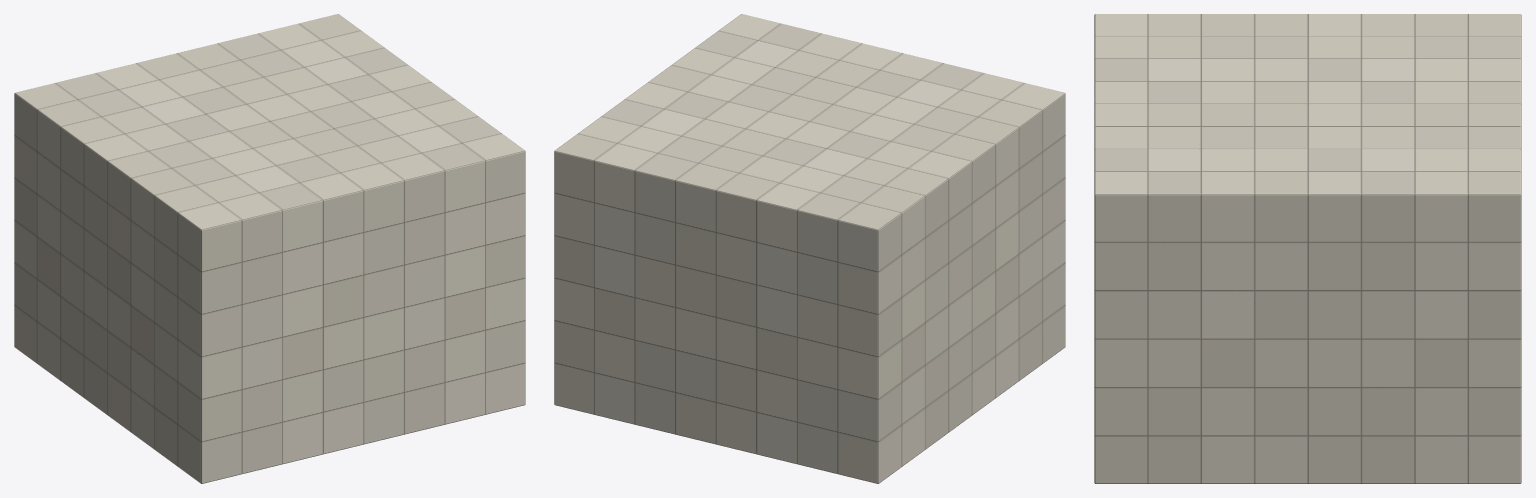
The model's file is MOD_40_Platform_Island.glb.
3 renders of one model, left to right at view 1: azimuth 30°, elevation 25°; view 2: azimuth 150°, elevation 25°; view 3: azimuth 270°, elevation 25°, orthographic. The views are drawn at different scales.
Visible parts, largest first — view 1: MOD_40_Platform_Island_Export; view 2: MOD_40_Platform_Island_Export; view 3: MOD_40_Platform_Island_Export.
Boxes of the visible parts, x1,y1,x2,y2 form: MOD_40_Platform_Island_Export: (14, 14, 525, 483); MOD_40_Platform_Island_Export: (554, 14, 1065, 483); MOD_40_Platform_Island_Export: (1094, 14, 1521, 483).
Size of the model in its own units: 2 by 1.5 by 2.
1 material, 1 textured.
